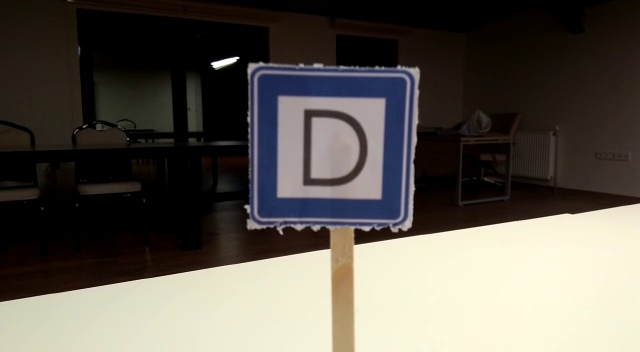durak: (249, 64, 417, 227)
